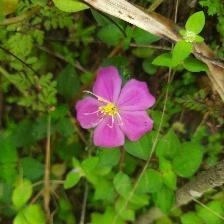malabar melastome: (71, 65, 159, 151)
